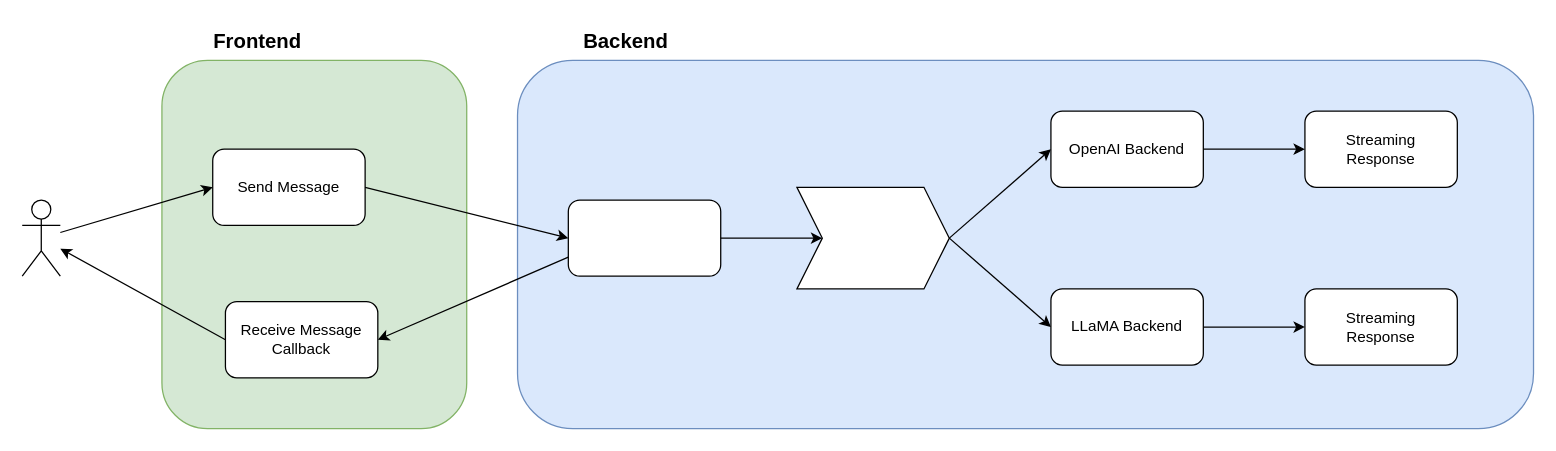
The diagram is 1556 pixels wide and 451 high, and some of its shapes have lost their labels. The centre of each missing label's shape, as x and y in pixels:
"LLM Backend Adapter" belongs at [872,237].
"User" belongs at [40,237].
"WebSocket Endpoint Backend" belongs at [644,237].
